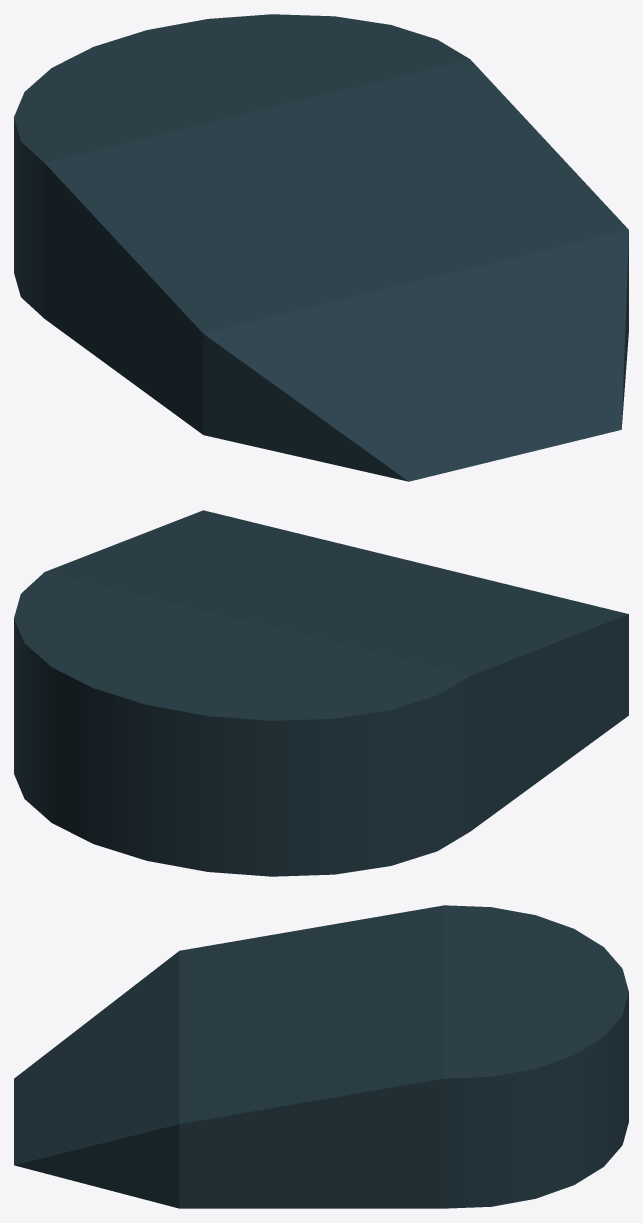
File: Mouse.glb
3 renders of one model, top to bottom at view 1: azimuth 30°, elevation 25°; view 2: azimuth 150°, elevation 25°; view 3: azimuth 270°, elevation 25°, orthographic. The views are drawn at different scales.
Parts seen in each view (by area): view 1: computerMouse(Clone); view 2: computerMouse(Clone); view 3: computerMouse(Clone).
Part boxes in pixels (x1,y1,x2,y2): computerMouse(Clone): (14,14,628,481); computerMouse(Clone): (14,510,628,876); computerMouse(Clone): (14,905,628,1208).
Bounding box in the file's own units: 0.1 × 0.035 × 0.15.
